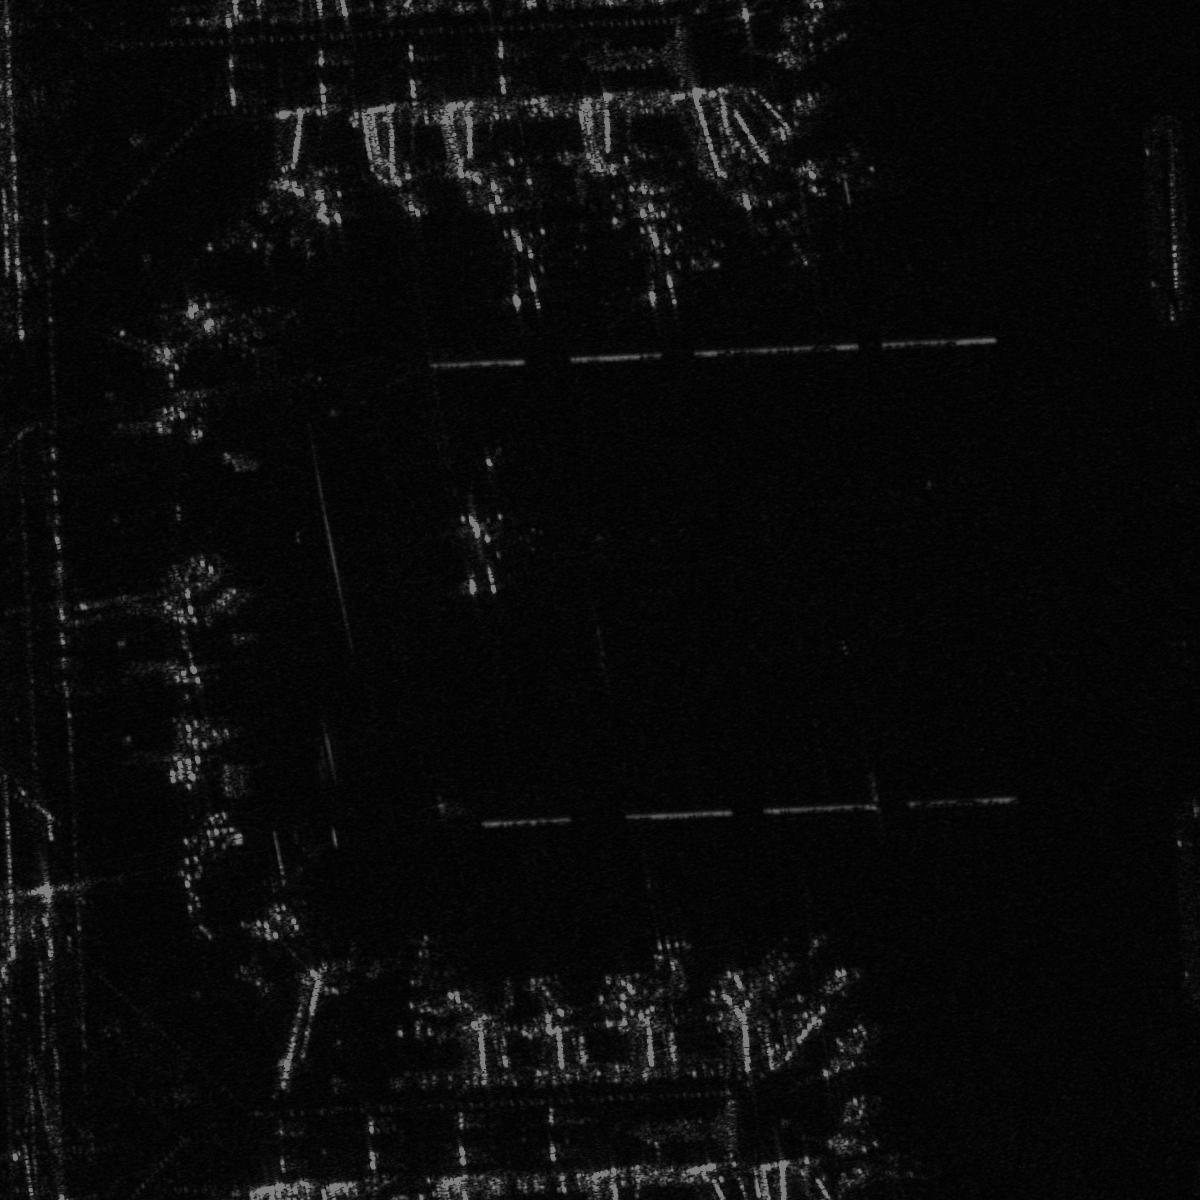A320/321: (162, 542, 276, 645), (615, 195, 696, 311), (773, 134, 884, 216)
A330: (175, 291, 298, 373)
Boeing737: (731, 184, 826, 268)
Boeing787: (476, 216, 563, 311)
other: (436, 488, 524, 608)
